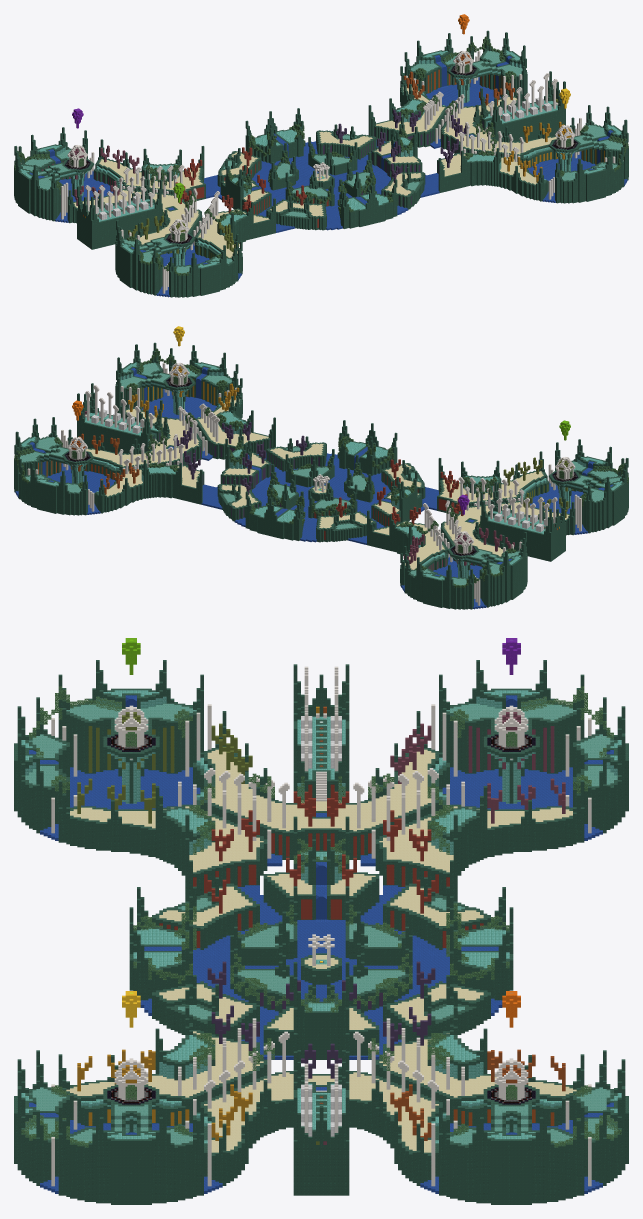
File: minecraft.obj
The picture shows the model from 3 angles, top to bottom: view 1: azimuth 30°, elevation 25°; view 2: azimuth 150°, elevation 25°; view 3: azimuth 270°, elevation 25°; orthographic projection. The views are drawn at different scales.
Size of the model in its own units: 2870 by 480 by 1650.
